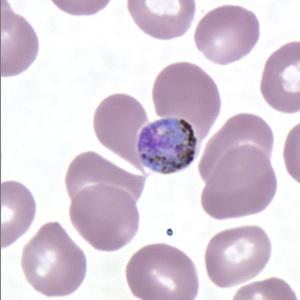Infected: (138, 118, 197, 175)
Uninfected: (203, 144, 278, 220), (198, 112, 274, 181), (70, 182, 140, 253), (152, 61, 219, 133), (20, 223, 85, 296), (204, 223, 272, 287), (93, 92, 148, 171), (126, 243, 200, 300), (65, 150, 146, 199), (194, 5, 259, 64), (127, 0, 198, 40), (260, 42, 300, 111), (0, 10, 40, 77), (0, 180, 36, 250)
